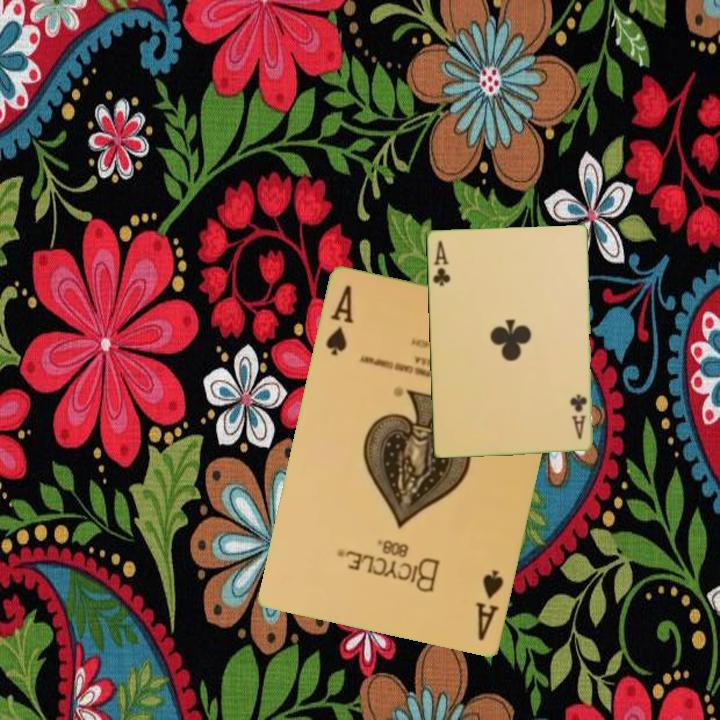Ac: (429, 237, 453, 289), (566, 390, 589, 441)
As: (472, 567, 507, 644), (322, 282, 357, 359)
